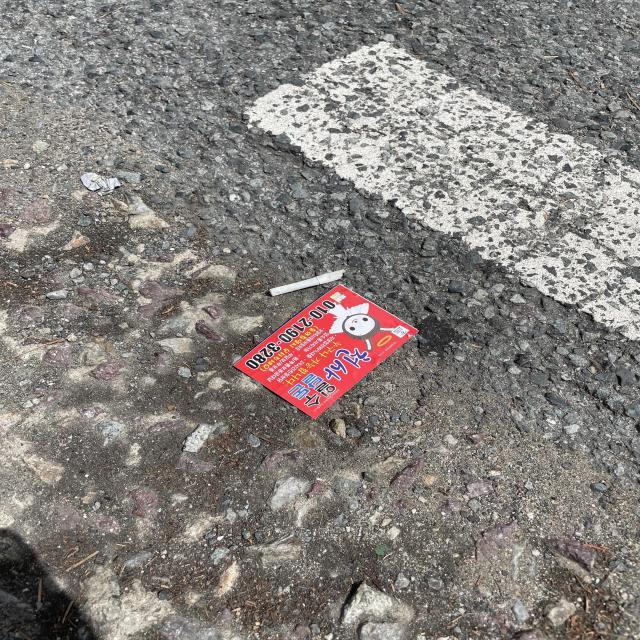litter: (234, 283, 419, 419), (269, 269, 346, 296)
